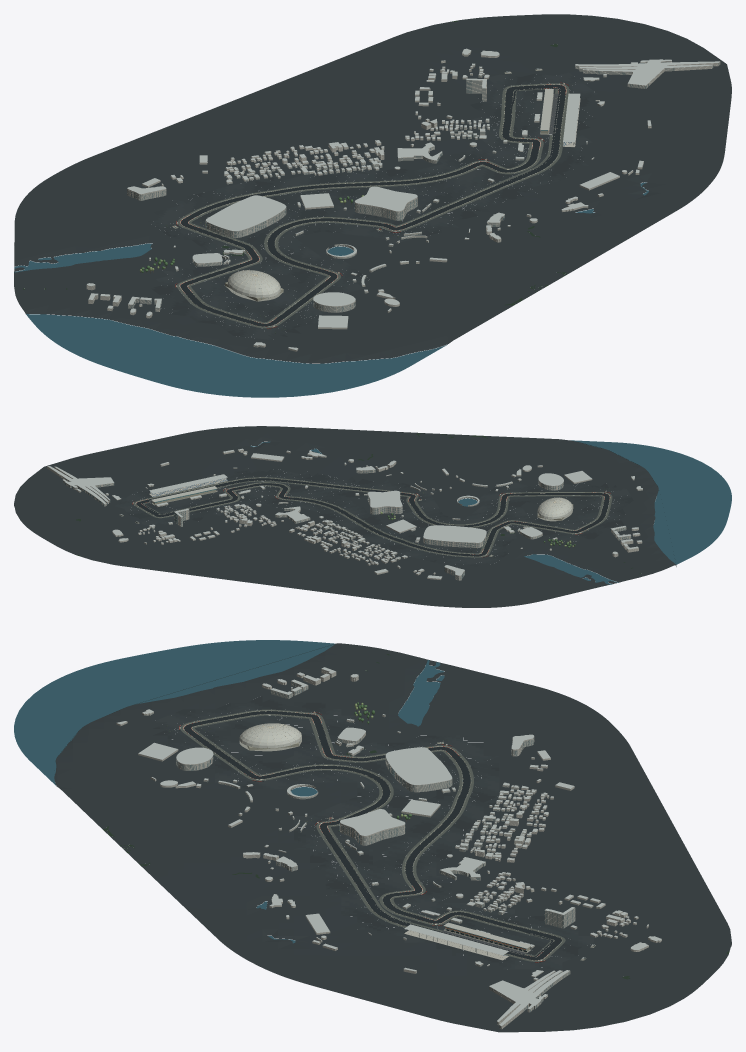
Rendered from Sochi.glb.
3 views of the same model, one above another, from view 1: azimuth 30°, elevation 25°; view 2: azimuth 150°, elevation 25°; view 3: azimuth 270°, elevation 25° (orthographic). The views are drawn at different scales.
Visible parts, largest first — view 1: terrain/ground, water-1/water, terrain-ground-finish-1, terrain-ground-finish-3, terrain-ground-finish-2, road/asphalt, terrain-ground-finish-0, runoff/runoff, terrain-ground-finish-4, street-walls/concrete, urban-map-tile--3--1/roof, urban-map-tile-6--3/roof (+9 smaller); view 2: terrain/ground, water-1/water, terrain-ground-finish-1, terrain-ground-finish-2, terrain-ground-finish-3, road/asphalt, runoff/runoff, terrain-ground-finish-0, terrain-ground-finish-4, street-walls/concrete, urban-map-tile--3--1/roof, water-6/water (+11 smaller); view 3: terrain/ground, water-1/water, terrain-ground-finish-1, terrain-ground-finish-2, terrain-ground-finish-3, road/asphalt, terrain-ground-finish-0, runoff/runoff, terrain-ground-finish-4, street-walls/concrete, urban-map-tile--3--1/roof, water-6/water (+7 smaller).
Part boxes in pixels (x1,y1,x2,y2): terrain/ground: (14,14,731,363); water-1/water: (26,314,447,397); terrain-ground-finish-1: (148,73,595,340); terrain-ground-finish-3: (151,72,597,339); terrain-ground-finish-2: (150,75,599,337); road/asphalt: (180,84,565,326); terrain-ground-finish-0: (152,73,590,336); runoff/runoff: (177,83,569,328); terrain-ground-finish-4: (156,74,592,339); street-walls/concrete: (179,84,566,327); urban-map-tile--3--1/roof: (206,195,286,230); urban-map-tile-6--3/roof: (575,59,719,85); terrain/ground: (14,426,675,607); water-1/water: (570,440,731,564); terrain-ground-finish-1: (119,468,631,567); terrain-ground-finish-2: (118,468,631,565); terrain-ground-finish-3: (115,467,630,565); road/asphalt: (136,478,609,556); runoff/runoff: (133,477,612,557); terrain-ground-finish-0: (129,470,633,562); terrain-ground-finish-4: (120,472,629,564); street-walls/concrete: (136,477,610,556); urban-map-tile--3--1/roof: (423,525,486,542); water-6/water: (524,554,618,584); terrain/ground: (54,643,731,1031); water-1/water: (14,640,334,786); terrain-ground-finish-1: (153,699,582,968); terrain-ground-finish-2: (160,696,586,975); terrain-ground-finish-3: (156,706,588,973); road/asphalt: (184,711,561,960); terrain-ground-finish-0: (153,696,581,963); runoff/runoff: (180,709,565,961); terrain-ground-finish-4: (157,707,593,972); street-walls/concrete: (183,710,562,960); urban-map-tile--3--1/roof: (385,747,452,784); water-6/water: (398,660,444,726).
Bounding box in the file's own units: 2949 × 66.86 × 2274.
